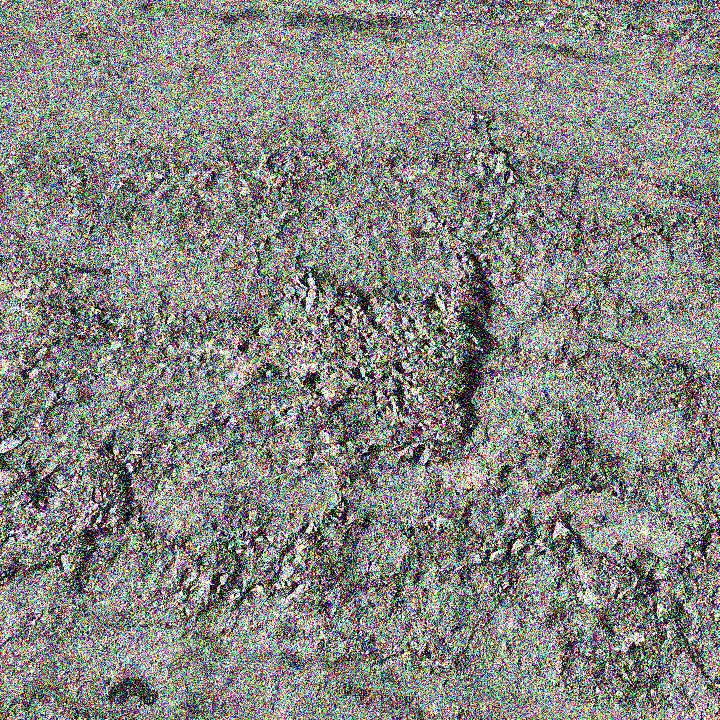pothole: (263, 247, 508, 463), (51, 445, 141, 572)
